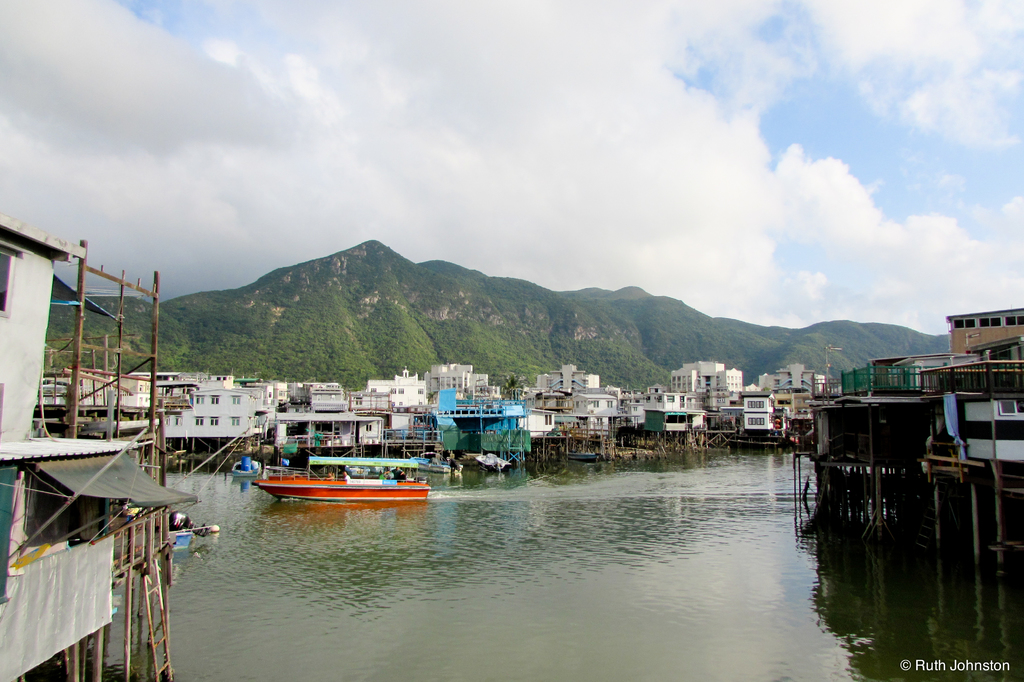boat: (242, 441, 455, 517)
